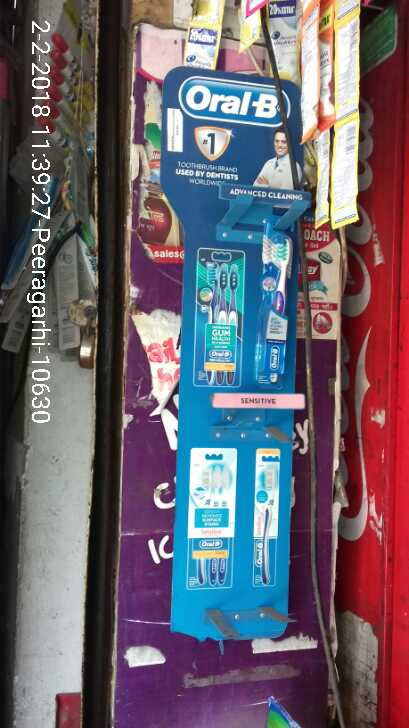oralb: (255, 217, 293, 388)
